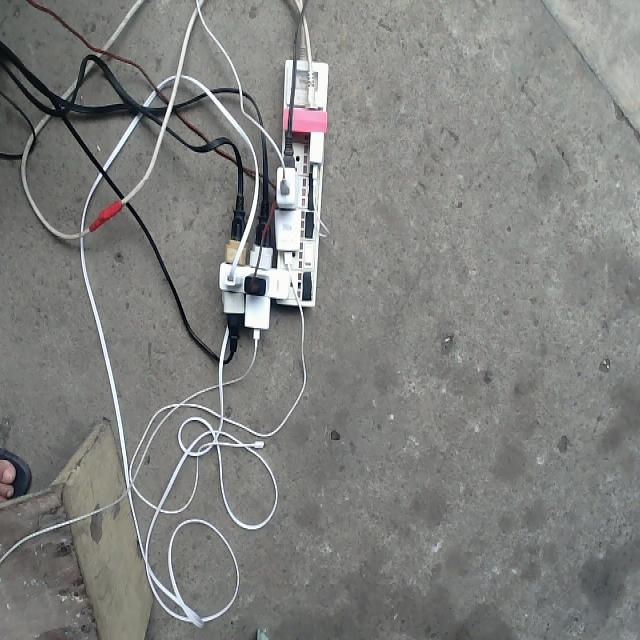-: (218, 57, 329, 326)
